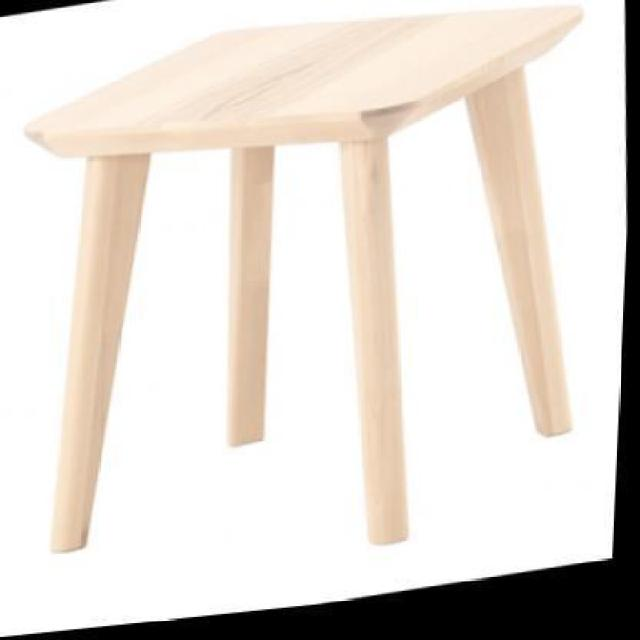tables: (22, 3, 583, 552)
